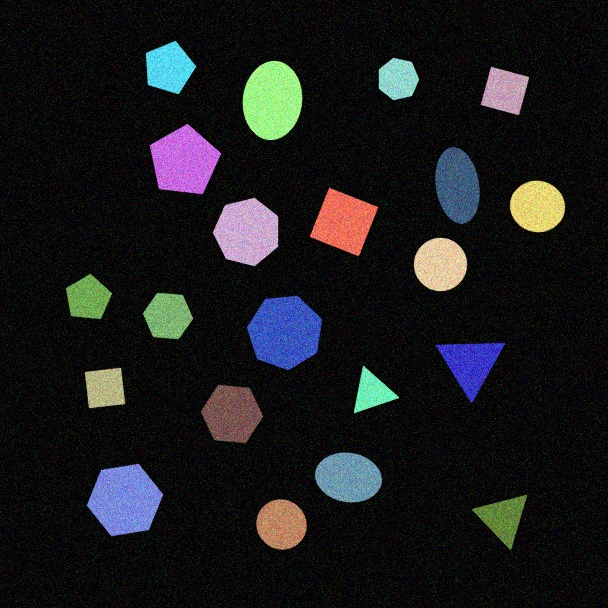Circulo: (413, 237, 468, 292), (509, 180, 566, 233), (256, 499, 307, 550)
Elipse: (242, 60, 303, 141), (434, 146, 481, 225), (314, 452, 383, 503)
Heptagono: (246, 295, 323, 371), (212, 197, 279, 267), (378, 57, 420, 101)
Hexagono: (86, 463, 164, 537), (200, 384, 264, 444), (142, 292, 194, 340)
Pentagono: (149, 123, 222, 195), (145, 40, 197, 95), (65, 273, 113, 320)
Quadrado: (309, 187, 379, 257), (480, 66, 530, 116), (84, 367, 126, 409)
Triangulo: (435, 342, 506, 404), (471, 494, 528, 551), (353, 365, 400, 414)
